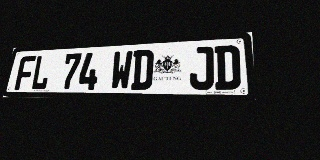4: (77, 52, 100, 90)
7: (59, 53, 82, 90)
D: (215, 45, 241, 90), (131, 49, 154, 90)
F: (14, 56, 36, 90)
J: (189, 46, 214, 90)
L: (30, 55, 52, 90)
W: (110, 50, 133, 90)
